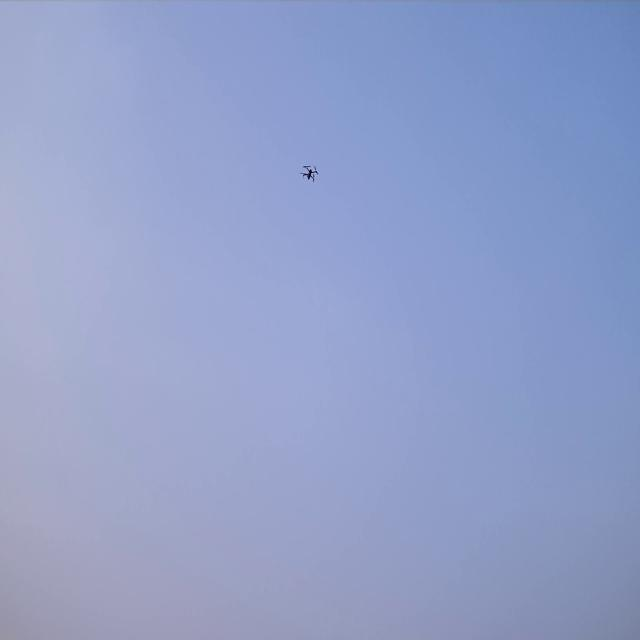UAV: (298, 162, 320, 182)
